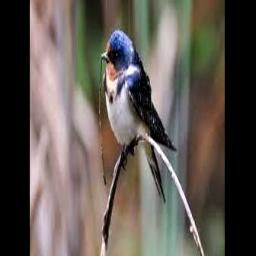Swallow: (101, 31, 177, 203)
